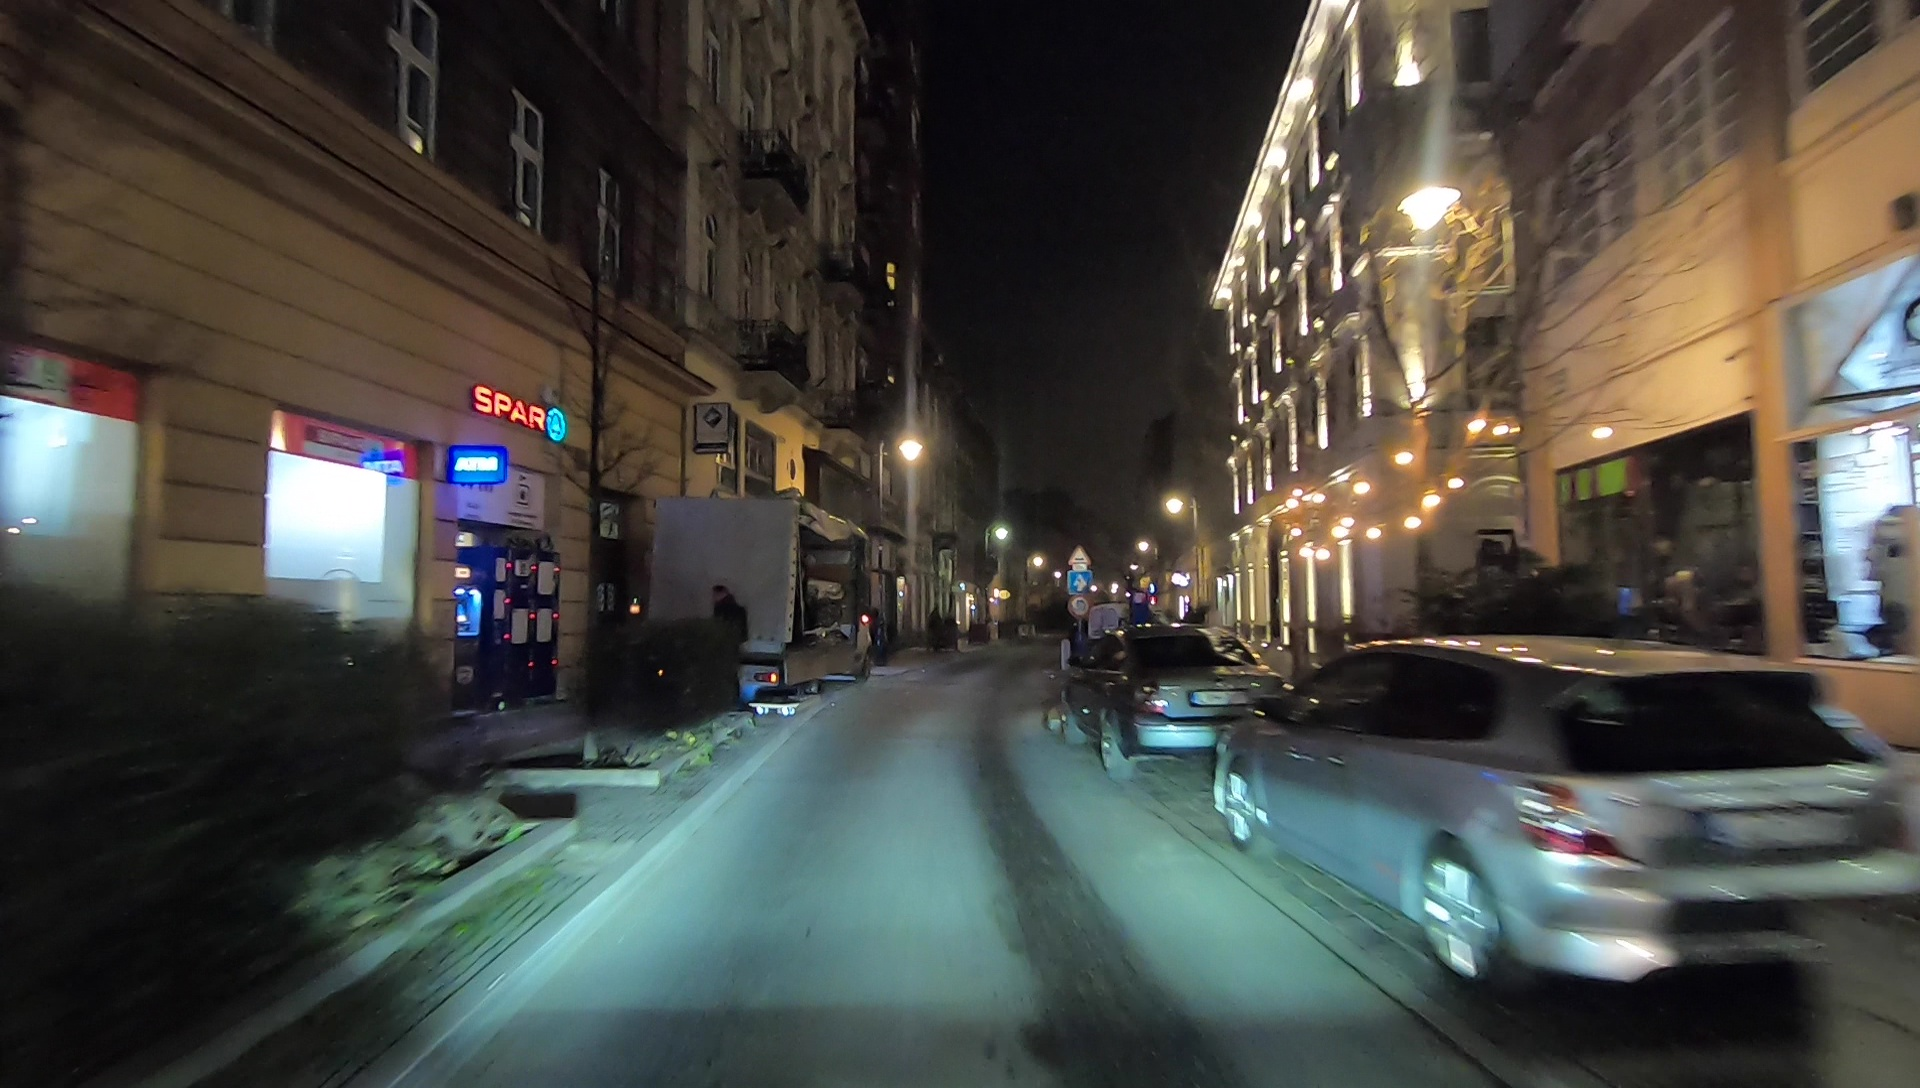person: (706, 586, 749, 702)
